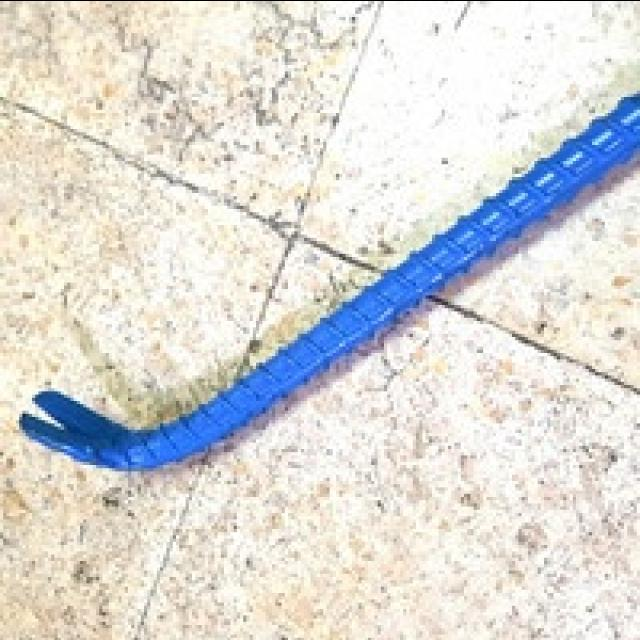Linggis: (14, 97, 640, 475)
